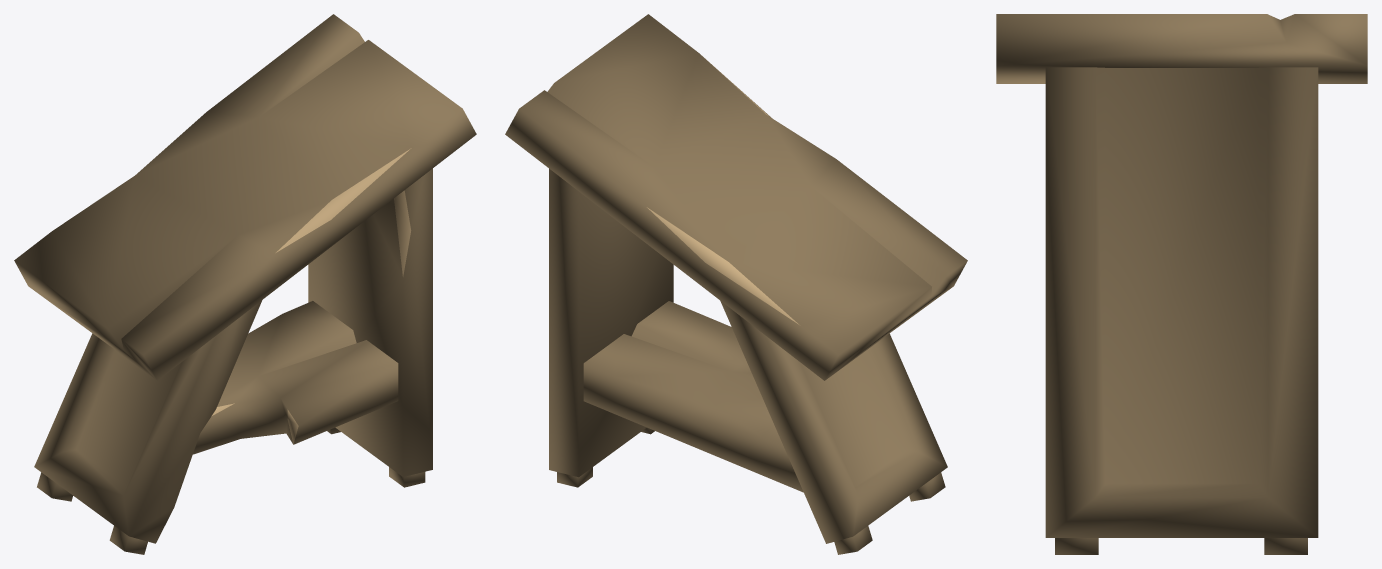
The model's file is rpgpp_av_shelf_small_01b.gltf.
3 renders of one model, left to right at view 1: azimuth 30°, elevation 25°; view 2: azimuth 150°, elevation 25°; view 3: azimuth 270°, elevation 25°, orthographic. The views are drawn at different scales.
Parts seen in each view (by area): view 1: rpgpp_av_shelf_small_01b; view 2: rpgpp_av_shelf_small_01b; view 3: rpgpp_av_shelf_small_01b.
Boxes of the visible parts, x1,y1,x2,y2 form: rpgpp_av_shelf_small_01b: (14,14,476,554); rpgpp_av_shelf_small_01b: (505,14,967,554); rpgpp_av_shelf_small_01b: (996,14,1367,554).
Size of the model in its own units: 0.00746 by 0.00831 by 0.00501.
1 material, 1 textured.
